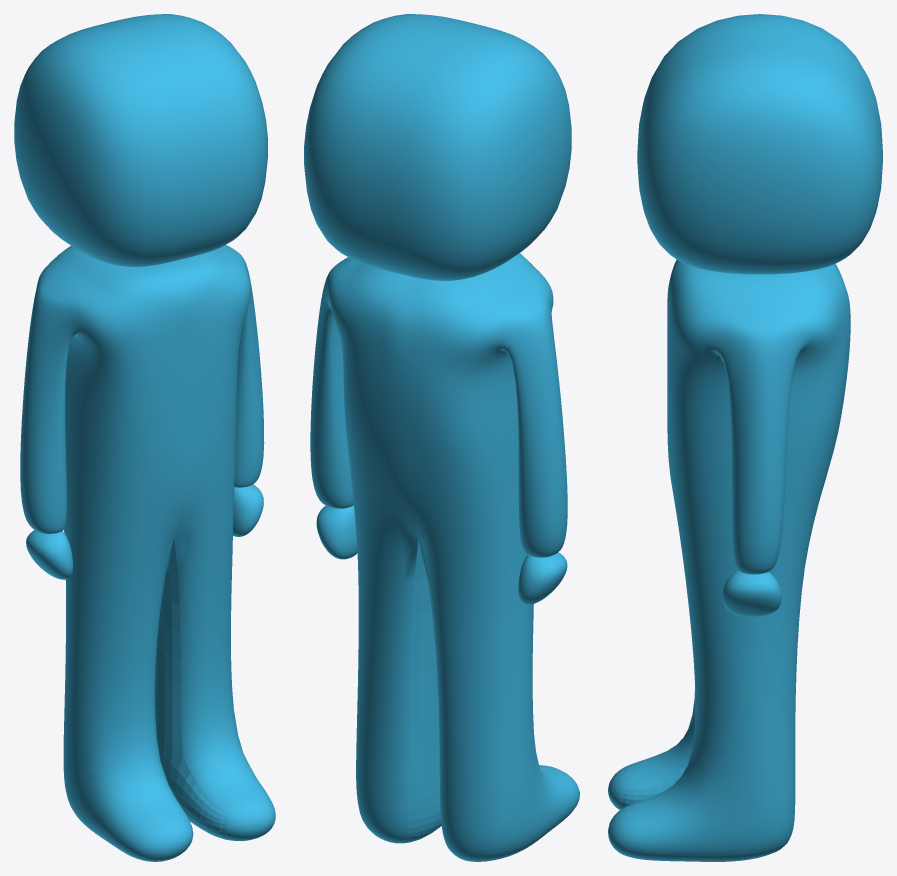
File: karakter_iyi.fbx
3 views of the same model, side by side, from view 1: azimuth 30°, elevation 25°; view 2: azimuth 150°, elevation 25°; view 3: azimuth 270°, elevation 25° (orthographic). The views are drawn at different scales.
Parts seen in each view (by area): view 1: Cube; view 2: Cube; view 3: Cube.
Boxes of the visible parts, left/top/right/bottom form: Cube: left=14, top=14, right=275, bottom=861; Cube: left=304, top=14, right=579, bottom=861; Cube: left=608, top=14, right=882, bottom=861.
Size of the model in its own units: 303 by 947 by 296.
